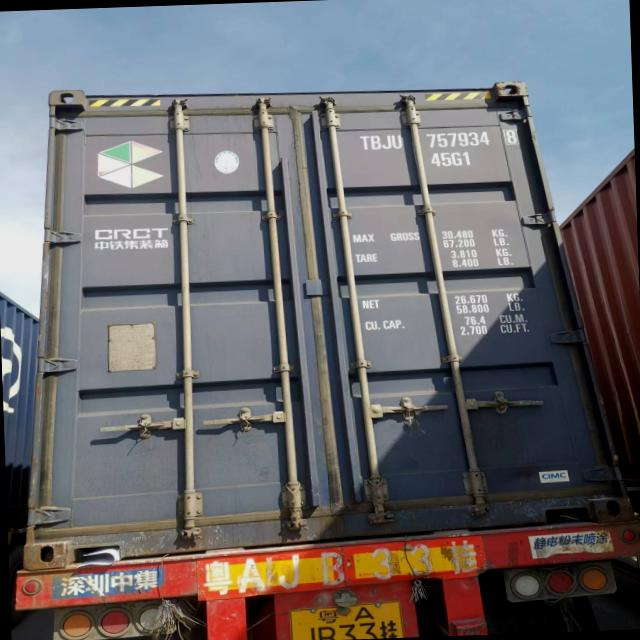seal: (393, 386, 418, 435)
